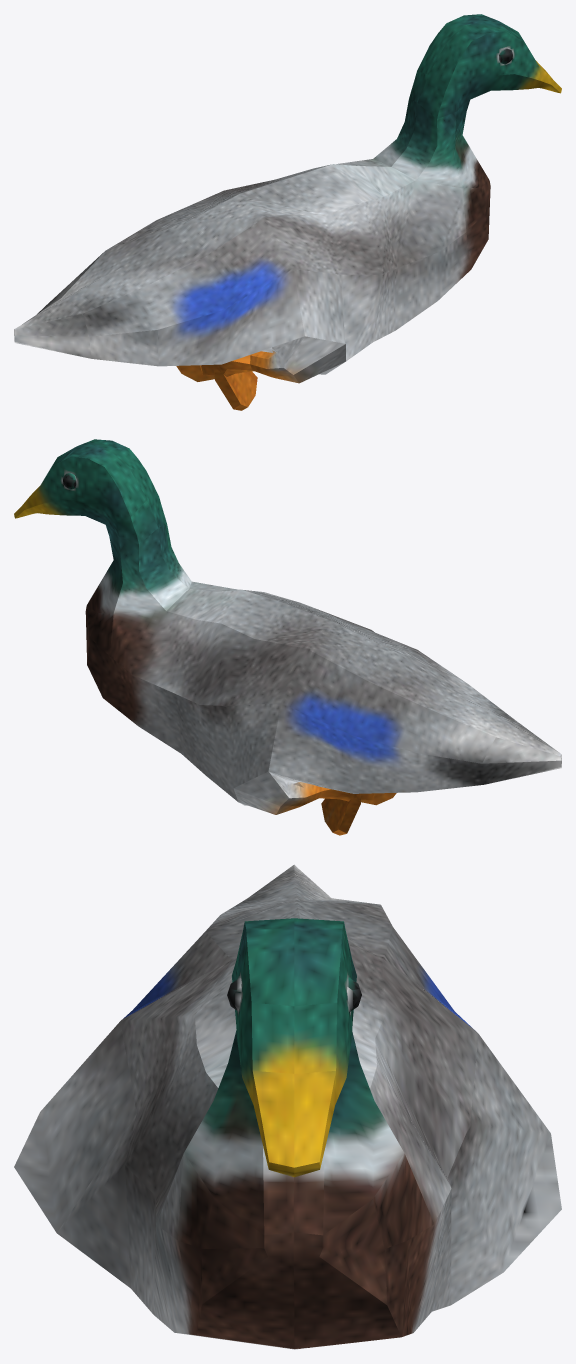
File: MallardSwimming.fbx
3 renders of one model, top to bottom at view 1: azimuth 30°, elevation 25°; view 2: azimuth 150°, elevation 25°; view 3: azimuth 270°, elevation 25°, orthographic. The views are drawn at different scales.
Visible parts, largest first — view 1: MallardSwimming; view 2: MallardSwimming; view 3: MallardSwimming.
Part boxes in pixels (x1,y1,x2,y2): MallardSwimming: (14, 14, 561, 410); MallardSwimming: (14, 439, 561, 835); MallardSwimming: (14, 864, 561, 1349).
Bounding box in the file's own units: 195 × 107 × 86.46.
